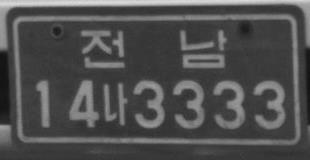1: (31, 77, 58, 128)
3: (171, 79, 207, 130), (131, 78, 166, 130), (252, 78, 286, 131), (213, 79, 247, 130)
4: (67, 79, 100, 129)
나: (101, 81, 128, 126)
전남_D: (79, 27, 227, 69)
